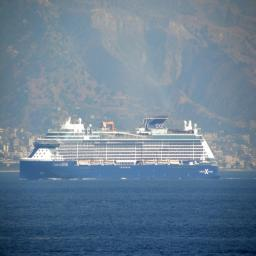cruises: (21, 112, 225, 182)
